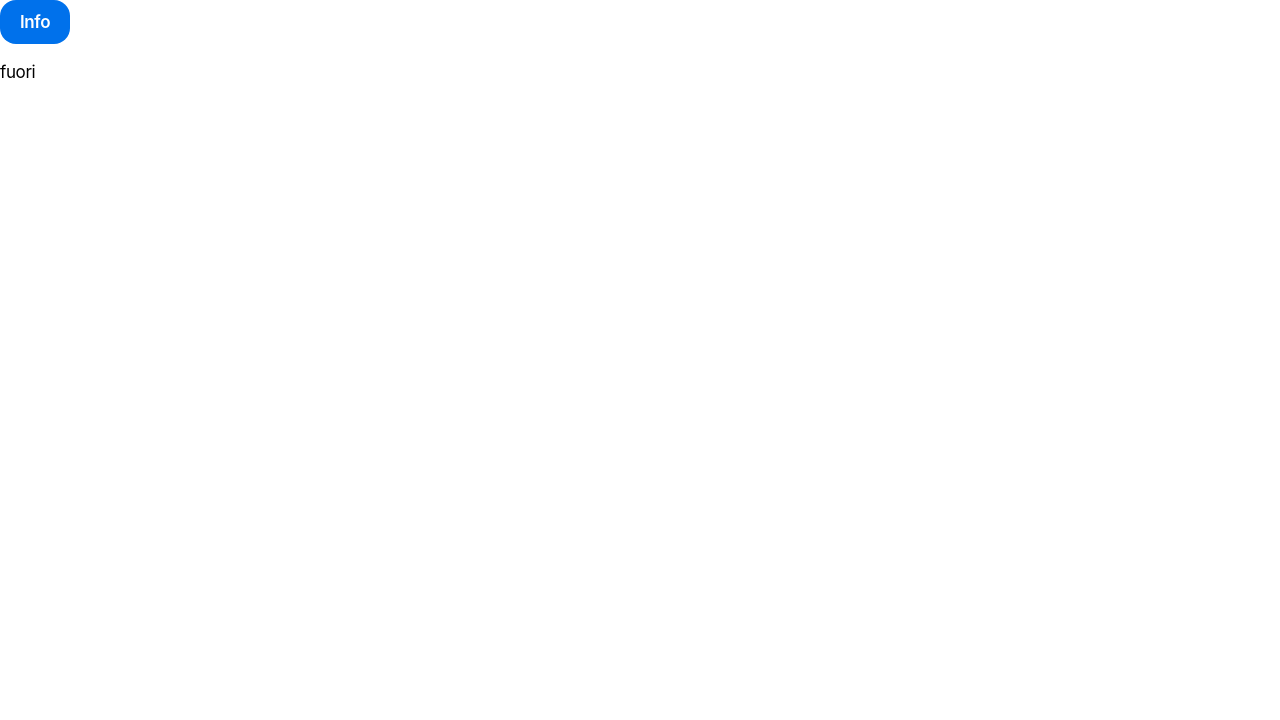
Test: Menu, Picker, Popover, ContextMenu › Popover: si apre dal trigger, Esc e clic fuori chiudono
This screenshot has width=1280, height=720.
Later steps or results of the test are not shown.
Click the button "Info".
click(35, 22)  # box [0,0,70,44]
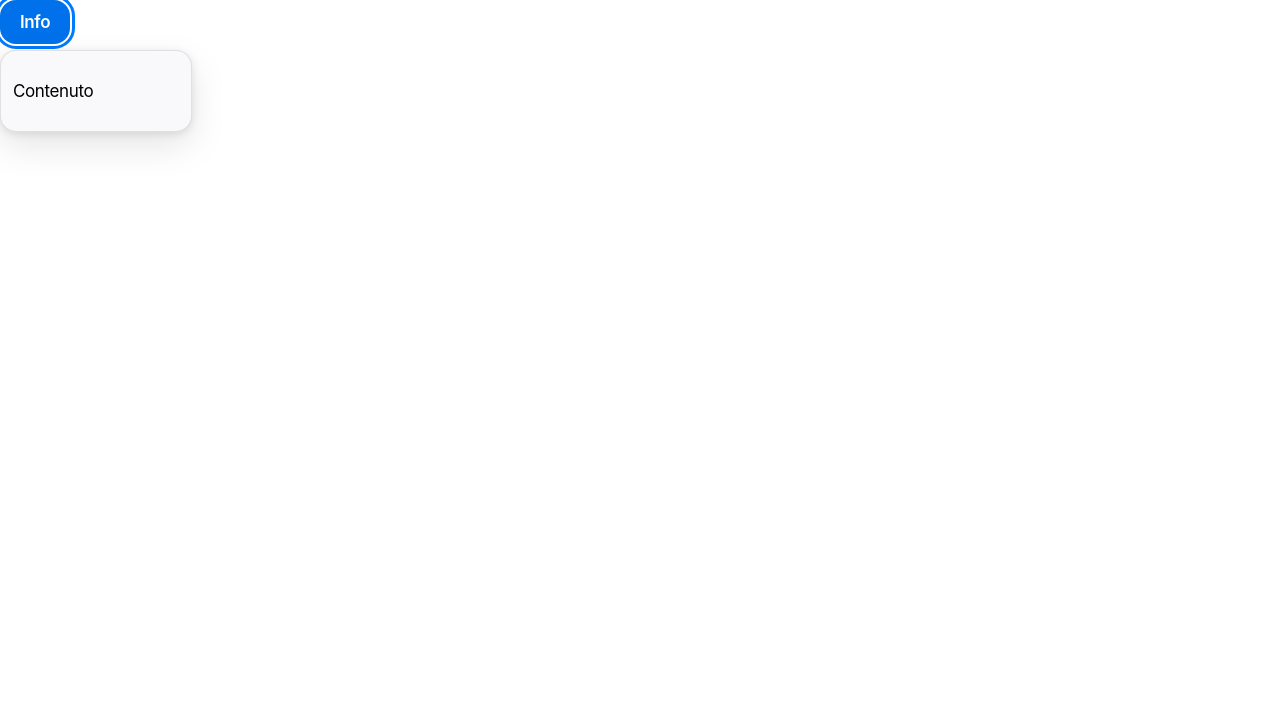
Expected: the dialog named "Info" is shown, [0,50,192,132]
Press Escape
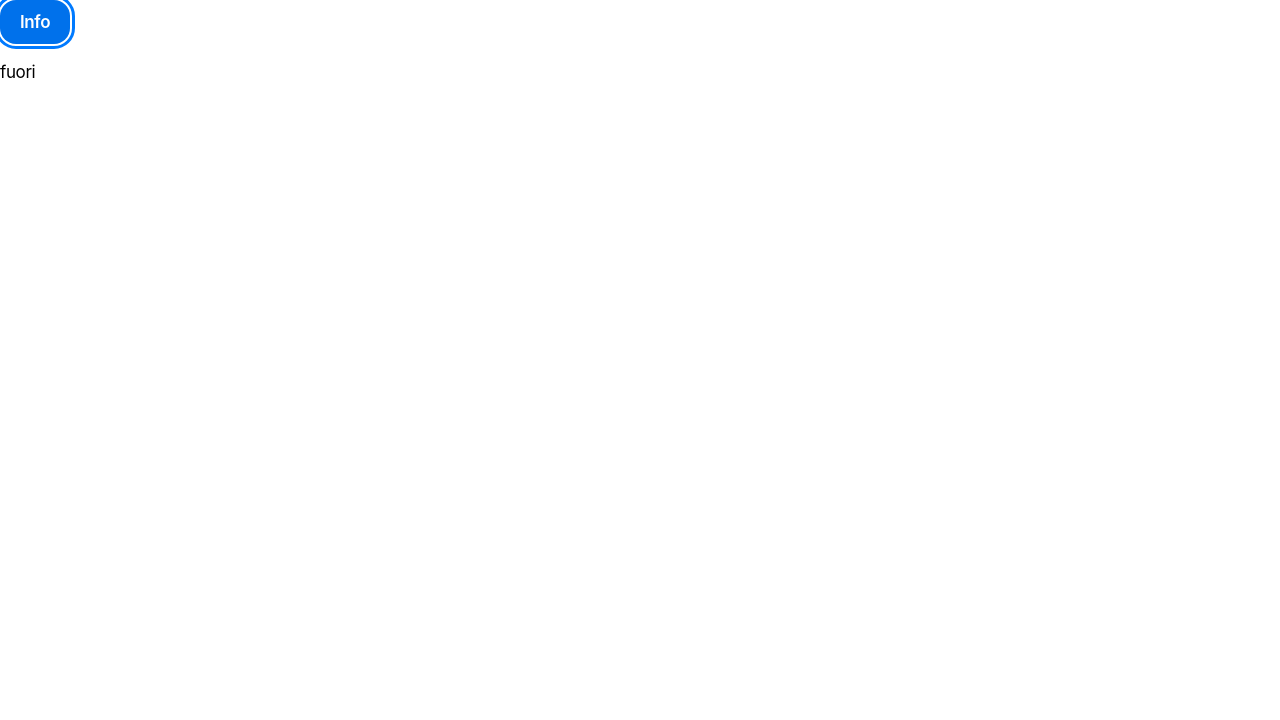
Expected: the dialog is gone
Click the button "Info".
click(35, 22)  # box [0,0,70,44]
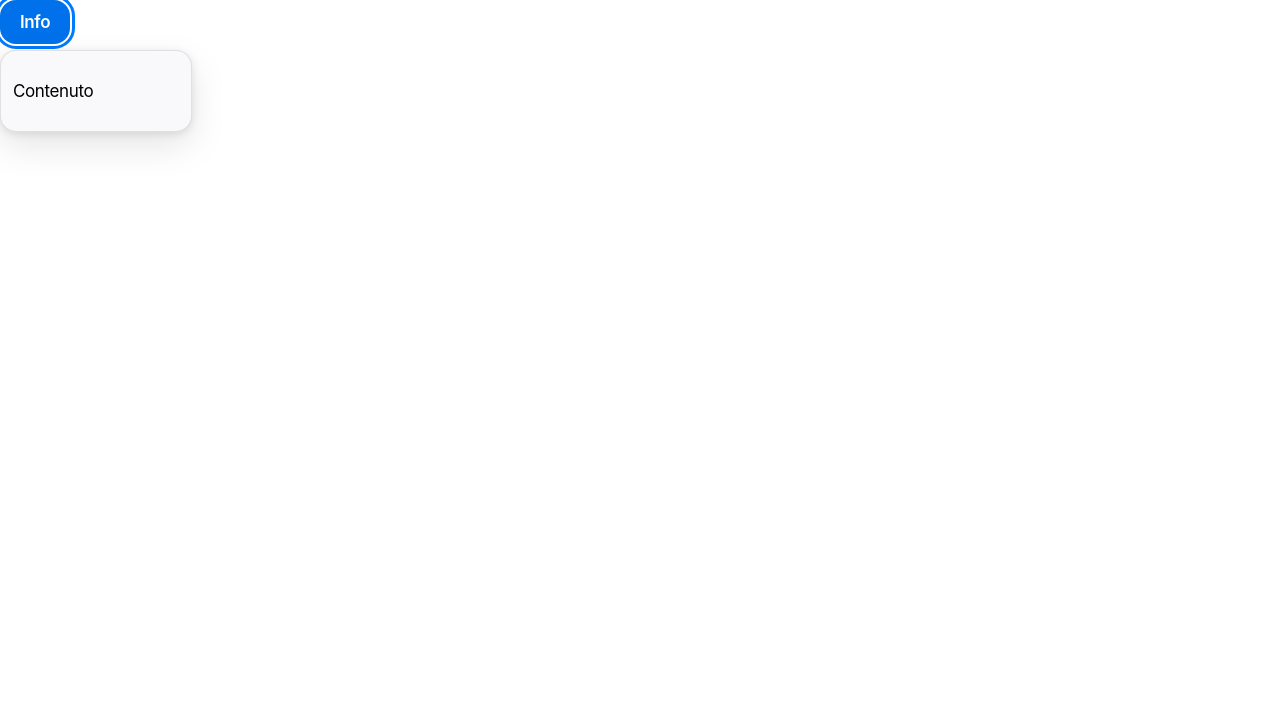
Expected: the dialog is shown, [0,50,192,132]
